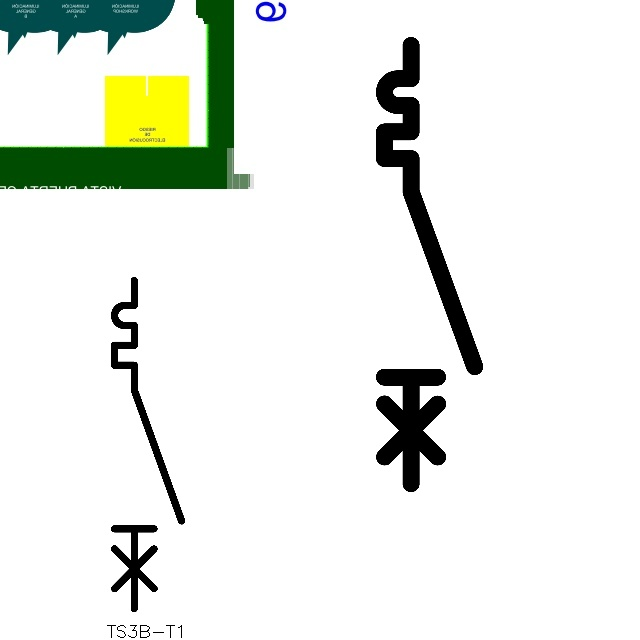interruptor_termomagnetico: (373, 34, 485, 494), (106, 272, 190, 617)
